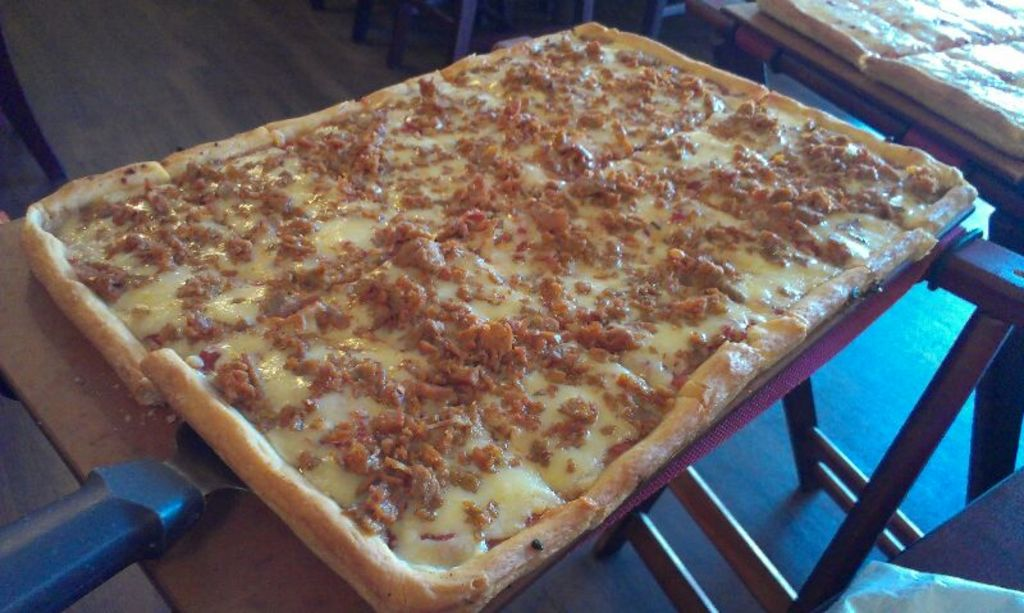Pizza: (35, 48, 986, 583), (753, 0, 1022, 163)
